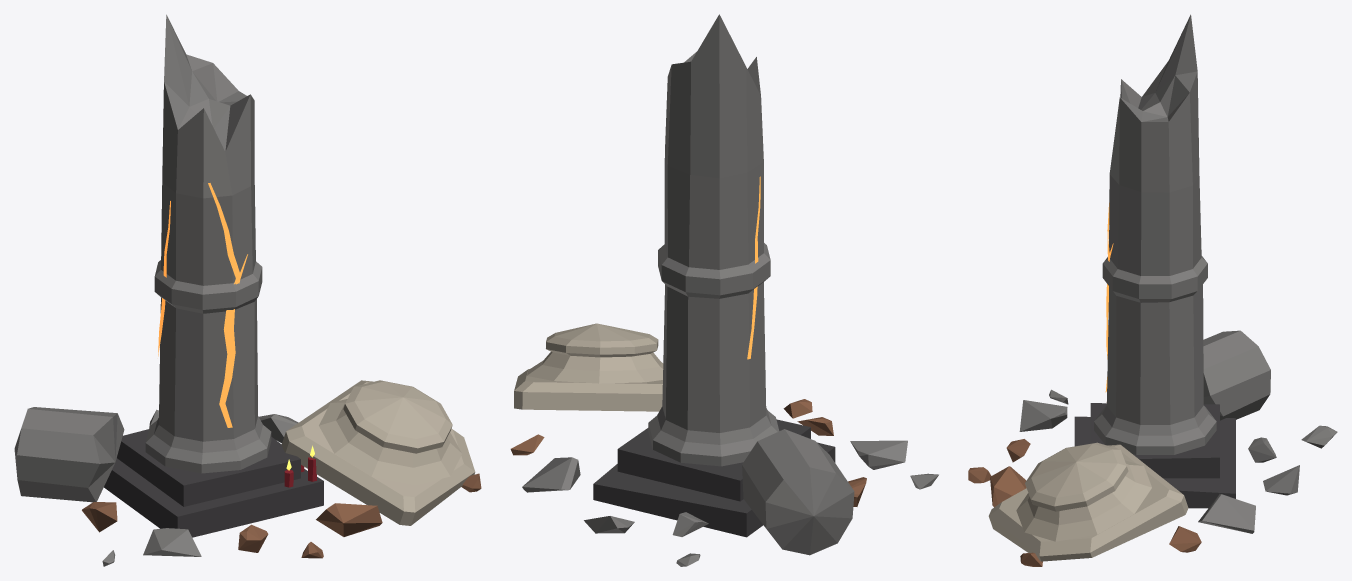
File: pillar.glb
The picture shows the model from 3 angles, left to right: view 1: azimuth 30°, elevation 25°; view 2: azimuth 150°, elevation 25°; view 3: azimuth 270°, elevation 25°; orthographic projection. The views are drawn at different scales.
Parts seen in each view (by area): view 1: shaft, capital_fallen, plinth, shaft_drum_fallen, rubble_01, crack_01, rubble_02, rubble_05, rubble_03, rubble_04; view 2: shaft, capital_fallen, shaft_drum_fallen, plinth, rubble_04, rubble_02, rubble_06; view 3: shaft, capital_fallen, plinth, shaft_drum_fallen, rubble_04, rubble_02, rubble_01, rubble_06, rubble_07, rubble_12, rubble_08.
Boxes of the visible parts, x1,y1,x2,y2 form: shaft: [145, 14, 271, 473]; capital_fallen: [281, 380, 475, 525]; plinth: [104, 429, 323, 537]; shaft_drum_fallen: [14, 407, 124, 502]; rubble_01: [316, 503, 382, 536]; crack_01: [208, 183, 240, 427]; rubble_02: [143, 528, 201, 556]; rubble_05: [82, 502, 117, 532]; rubble_03: [238, 524, 268, 552]; rubble_04: [259, 414, 298, 443]; shaft: [648, 14, 779, 466]; capital_fallen: [514, 323, 663, 411]; shaft_drum_fallen: [742, 429, 854, 555]; plinth: [593, 419, 835, 537]; rubble_04: [522, 457, 580, 492]; rubble_02: [850, 440, 907, 469]; rubble_06: [584, 516, 634, 533]; shaft: [1094, 14, 1216, 454]; capital_fallen: [988, 442, 1188, 561]; plinth: [1074, 403, 1235, 508]; shaft_drum_fallen: [1203, 330, 1270, 420]; rubble_04: [1198, 494, 1255, 533]; rubble_02: [1019, 400, 1067, 431]; rubble_01: [990, 466, 1026, 507]; rubble_06: [1263, 465, 1299, 495]; rubble_07: [1169, 526, 1201, 552]; rubble_12: [1248, 437, 1276, 462]; rubble_08: [1301, 425, 1337, 448].
Size of what is drawn, in the model's own units: 2.62 by 3.07 by 2.29.
